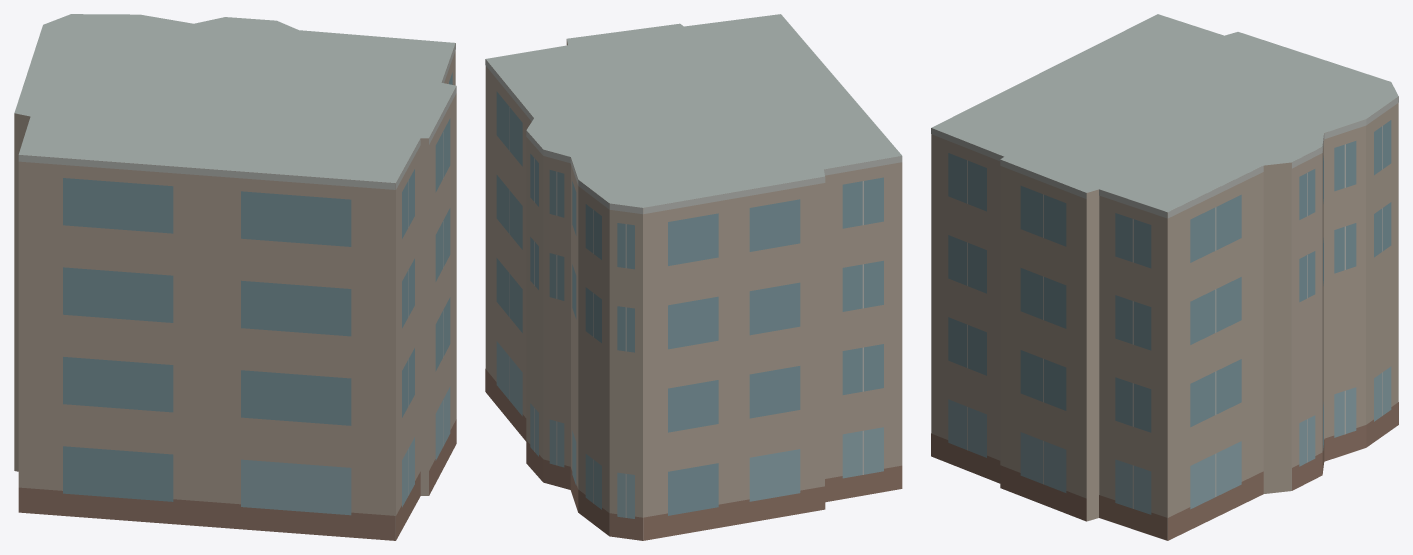
The model's file is survey-upis-32674289.glb.
3 views of the same model, side by side, from view 1: azimuth 30°, elevation 25°; view 2: azimuth 150°, elevation 25°; view 3: azimuth 270°, elevation 25° (orthographic). The views are drawn at different scales.
Visible parts, largest first — view 1: survey-upis-32674289.tmp; view 2: survey-upis-32674289.tmp; view 3: survey-upis-32674289.tmp.
Part boxes in pixels (x1,y1,x2,y2): survey-upis-32674289.tmp: (14,14,456,540); survey-upis-32674289.tmp: (485,14,902,540); survey-upis-32674289.tmp: (931,14,1398,540).
Size of the model in its own units: 16.58 by 12.8 by 16.52.
